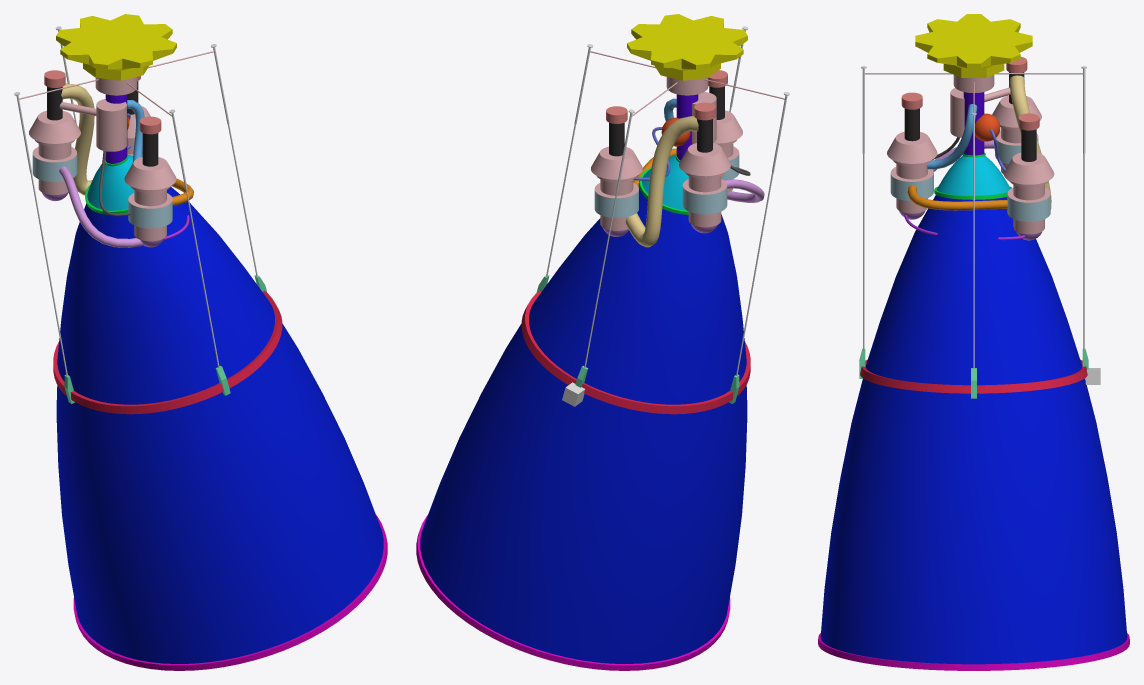
File: anim.fbx
The picture shows the model from 3 angles, left to right: view 1: azimuth 30°, elevation 25°; view 2: azimuth 150°, elevation 25°; view 3: azimuth 270°, elevation 25°; orthographic projection. The views are drawn at different scales.
Parts seen in each view (by area): view 1: Nozzle, EngineBase; view 2: Nozzle, EngineBase; view 3: Nozzle, EngineBase.
Boxes of the visible parts, x1=… form: Nozzle: x1=53, y1=154, x2=387, y2=670; EngineBase: x1=19, y1=14, x2=214, y2=247; Nozzle: x1=416, y1=154, x2=750, y2=670; EngineBase: x1=589, y1=14, x2=784, y2=247; Nozzle: x1=818, y1=152, x2=1129, y2=670; EngineBase: x1=864, y1=14, x2=1083, y2=240.
Size of the model in its own units: 2.64 by 4.35 by 2.09.
